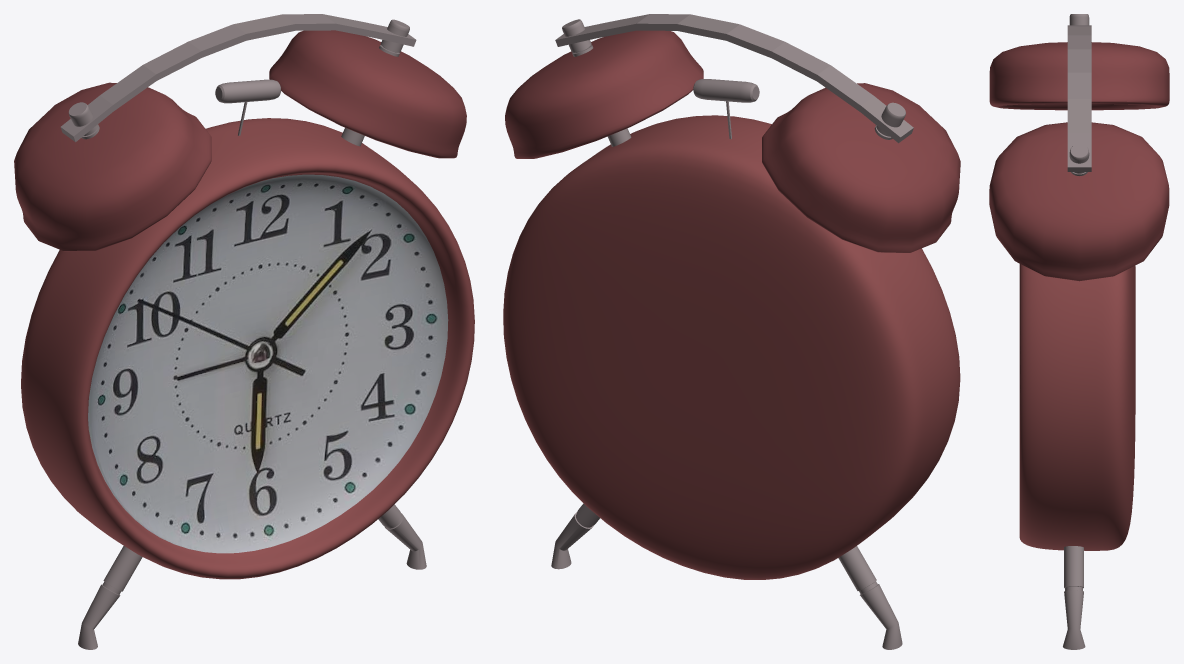
Rendered from Despertador.fbx.
3 views of the same model, side by side, from view 1: azimuth 30°, elevation 25°; view 2: azimuth 150°, elevation 25°; view 3: azimuth 270°, elevation 25° (orthographic). The views are drawn at different scales.
Visible parts, largest first — view 1: Despertador; view 2: Despertador; view 3: Despertador.
Boxes of the visible parts, bbox=[...] form: Despertador: bbox=[14, 14, 474, 649]; Despertador: bbox=[503, 14, 960, 649]; Despertador: bbox=[989, 14, 1169, 649].
Bounding box in the file's own units: 346 × 453 × 142.
1 material, 1 textured.
